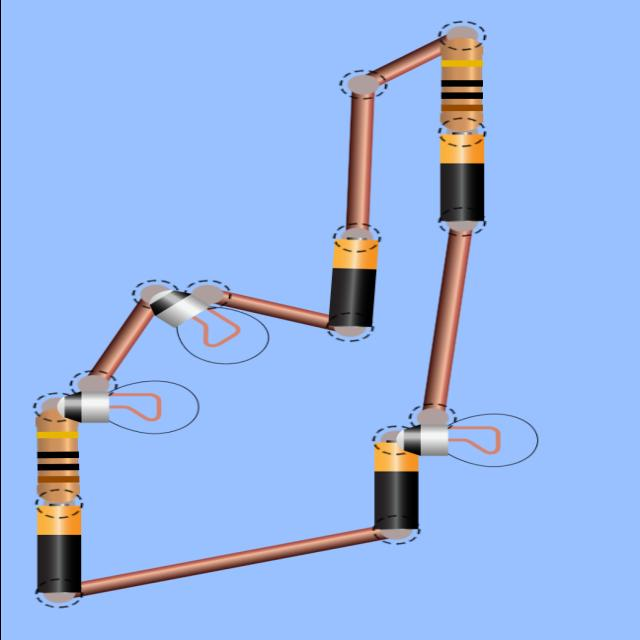Battery: (327, 239, 377, 328), (373, 442, 418, 530), (439, 134, 483, 222), (37, 505, 80, 592)
Light Bulb: (150, 291, 268, 364), (55, 381, 198, 434), (394, 414, 536, 466)
Resistor: (441, 35, 483, 130), (37, 409, 78, 502)
Wire: (79, 528, 384, 596), (422, 230, 471, 411), (77, 300, 154, 391), (218, 291, 333, 330), (345, 92, 373, 230), (367, 37, 445, 84)
